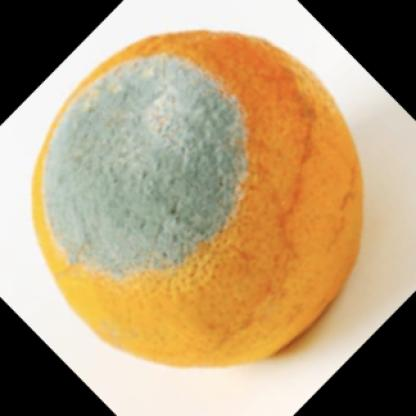rotten: (34, 27, 362, 367)
